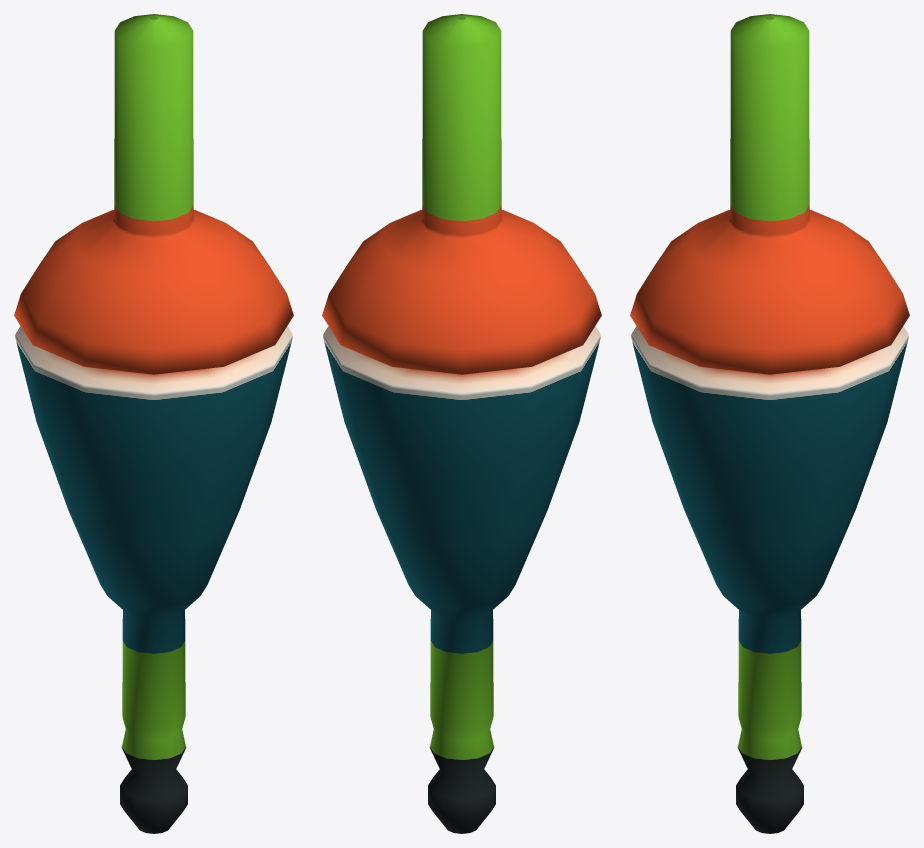
3 renders of one model, left to right at view 1: azimuth 30°, elevation 25°; view 2: azimuth 150°, elevation 25°; view 3: azimuth 270°, elevation 25°, orthographic.
Visible parts, largest first — view 1: F28_Float; view 2: F28_Float; view 3: F28_Float.
Boxes of the visible parts, x1,y1,x2,y2 form: F28_Float: (14,14,293,833); F28_Float: (322,14,601,833); F28_Float: (630,14,909,833).
Size of the model in its own units: 0.0069 by 0.022 by 0.0069.
1 material, 1 textured.
